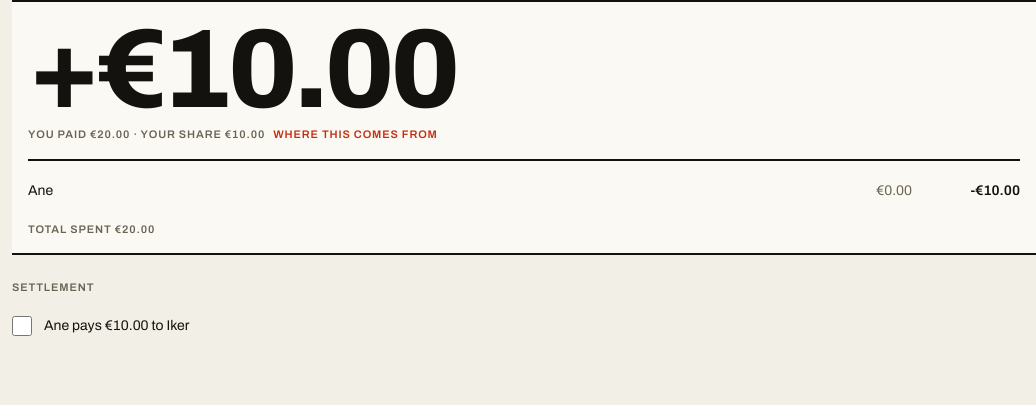
it: ExpenseSummary › shows the expenses I am in once unfolded
Expected: the text "Dinner" is not shown
Click the button "Where this comes from". click: (79, 134)
box: [28, 22, 1020, 143]
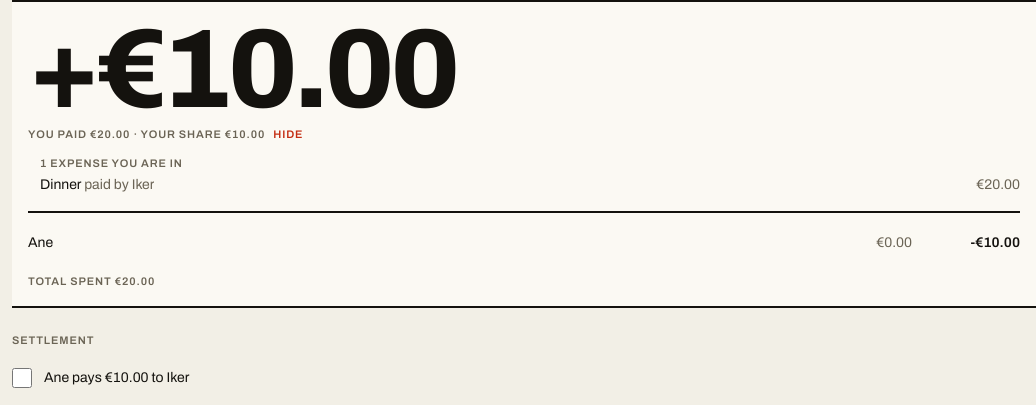
Expected: the text "Dinner paid by Iker" is shown, [40, 175, 154, 195]
